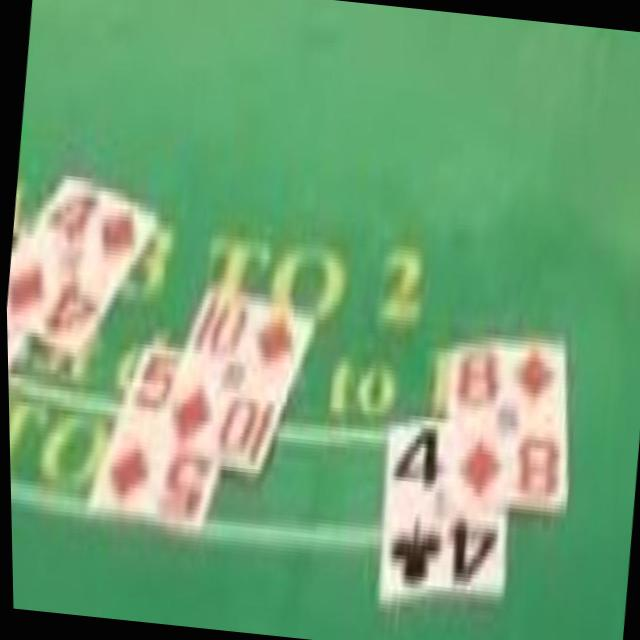Card-10: (162, 281, 314, 474)
Card-4: (5, 165, 157, 358), (375, 422, 505, 599)
Card-5: (85, 344, 217, 535)
Card-8: (448, 337, 564, 512)
